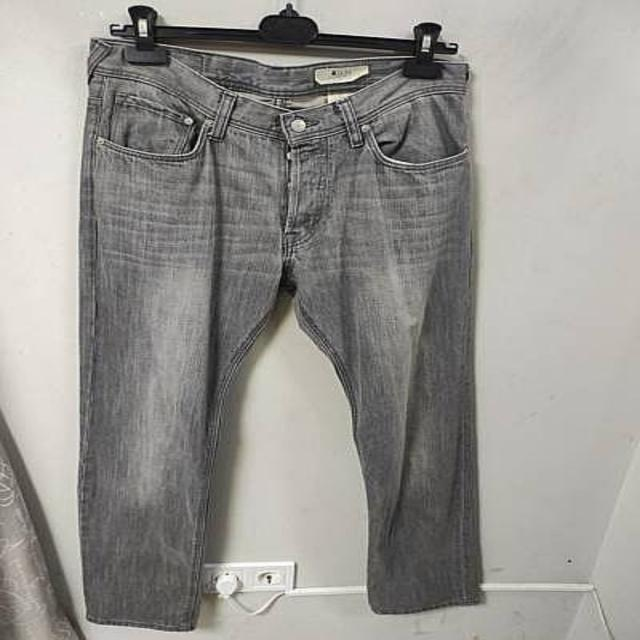TROUSER: (53, 30, 545, 634)
